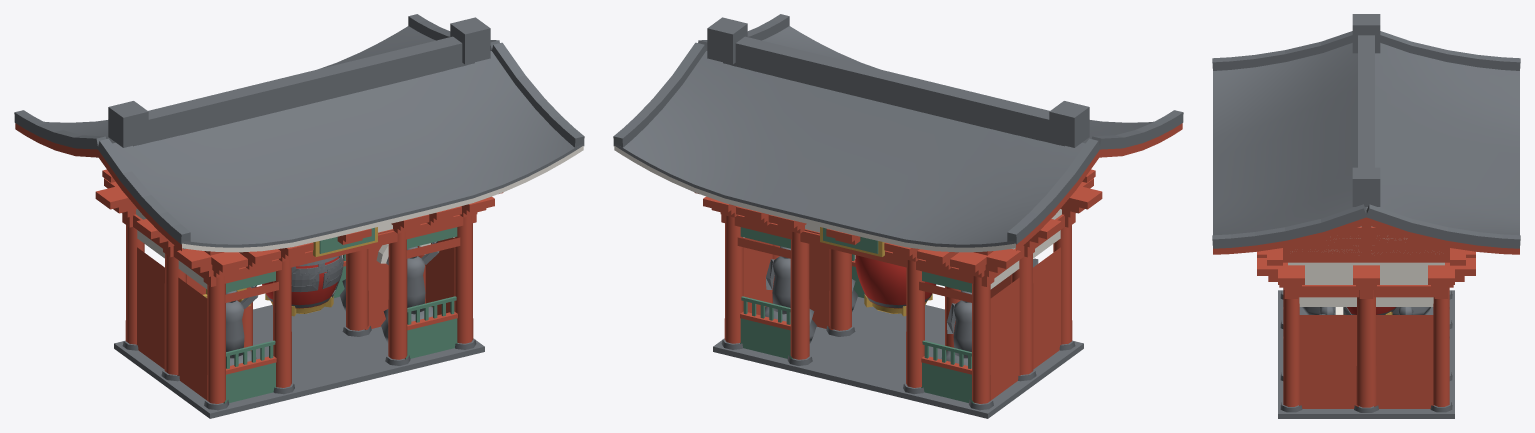
File: tokyo-kaminarimon.glb
3 renders of one model, left to right at view 1: azimuth 30°, elevation 25°; view 2: azimuth 150°, elevation 25°; view 3: azimuth 270°, elevation 25°, orthographic. The views are drawn at different scales.
Visible parts, largest first — view 1: Kaminarimon; view 2: Kaminarimon; view 3: Kaminarimon.
Boxes of the visible parts, left/top/right/bottom form: Kaminarimon: left=14, top=14, right=584, bottom=418; Kaminarimon: left=613, top=14, right=1183, bottom=418; Kaminarimon: left=1212, top=14, right=1520, bottom=418.
Size of the model in its own units: 17.45 by 11.7 by 12.54.
